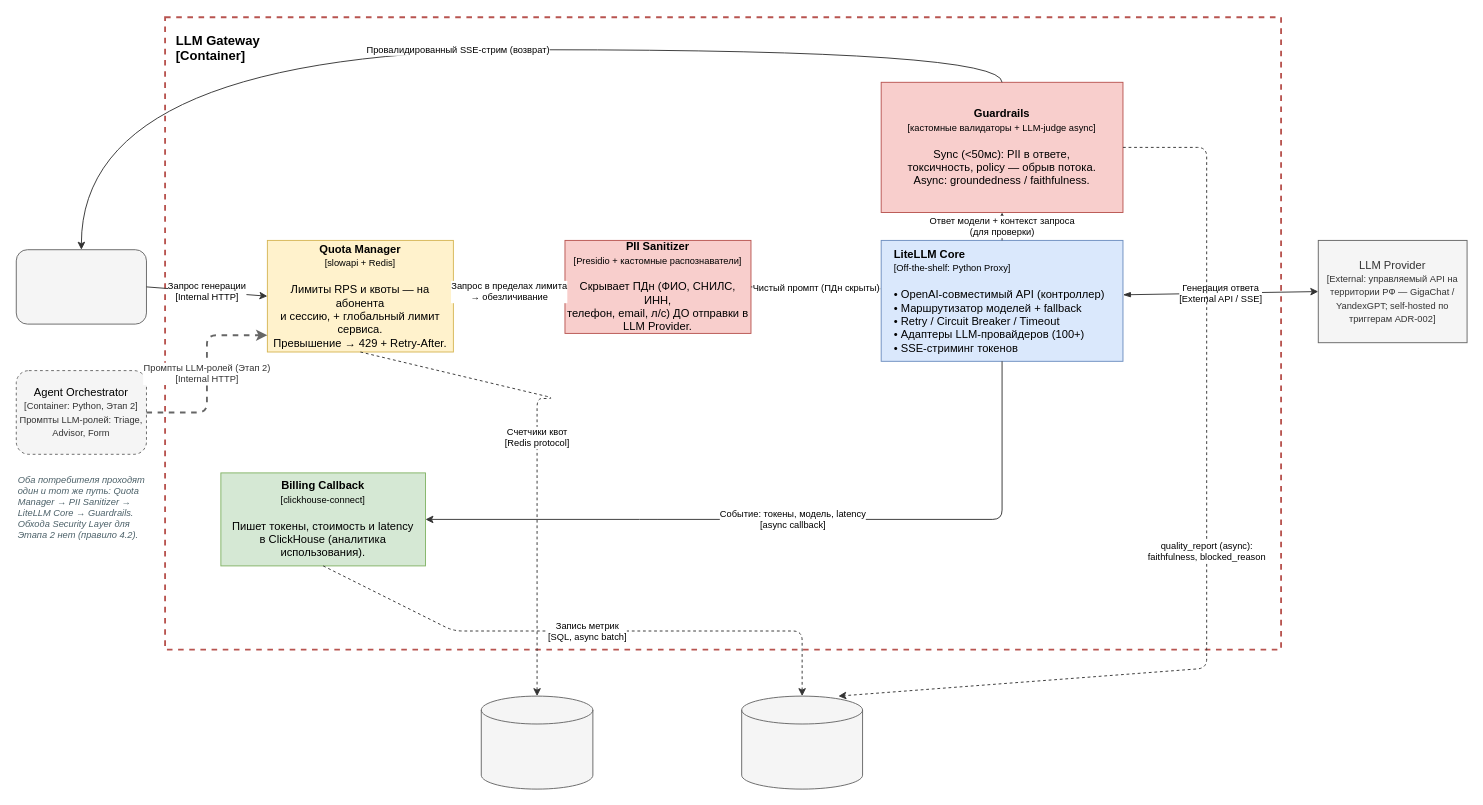
This 1483x805 diagram has some shape labels left out. The shapes that lost their labels are listed below. From the top down, each one's box as (x1, y1, x2, y2) in pixels, then its label:
(15, 249, 146, 324): API Gateway/Backend Service [Container: Go / Python FastAPI]
(480, 695, 593, 789): Redis [Container: Cache]
(741, 695, 863, 789): ClickHouse [Container: Analytics DB]
